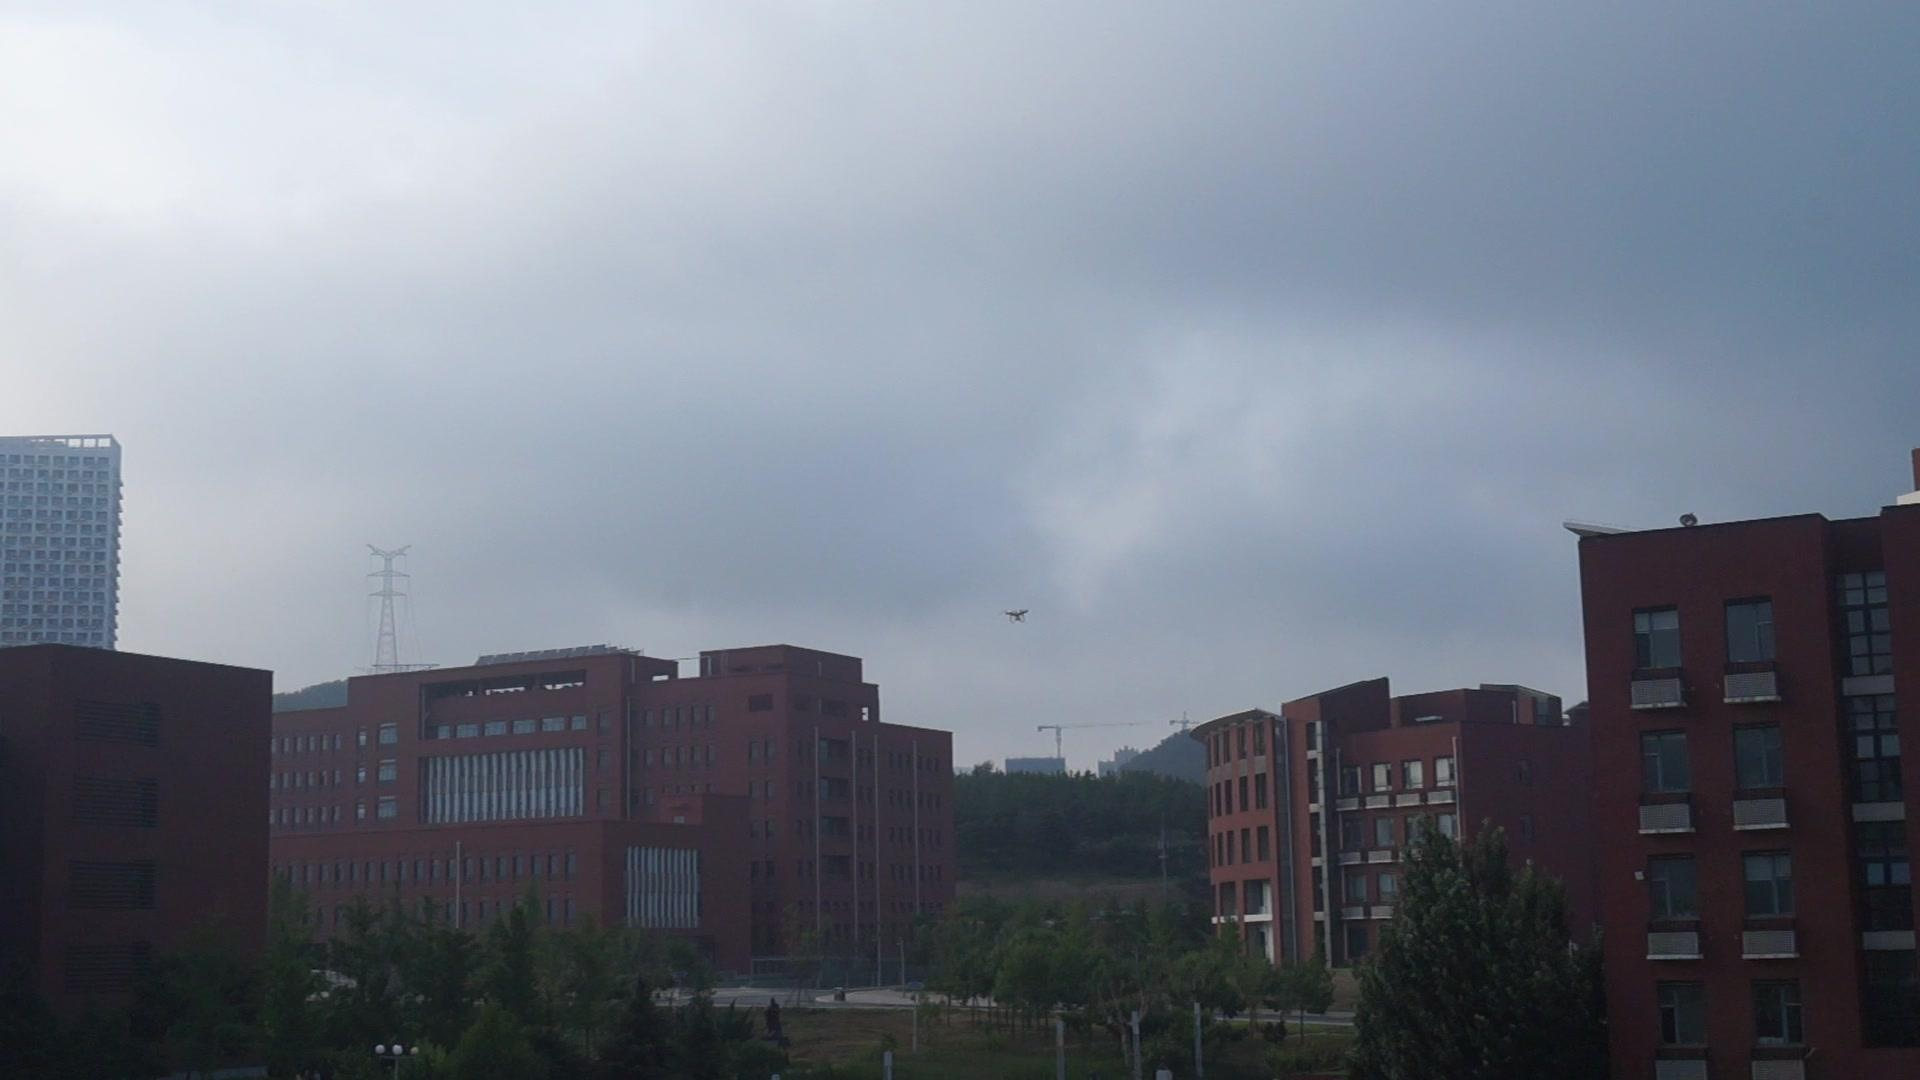UAV: (1001, 608, 1031, 625)
